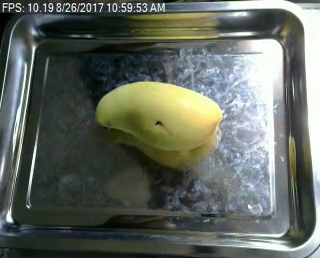Mango: (90, 79, 234, 157)
